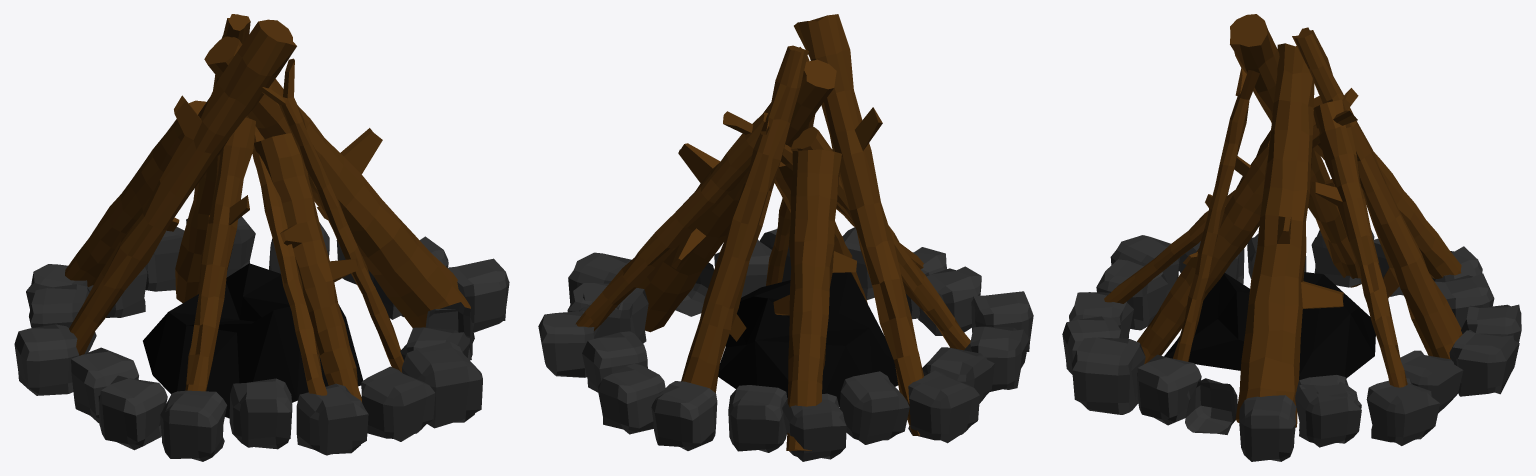
Rendered from campfire.glb.
3 renders of one model, left to right at view 1: azimuth 30°, elevation 25°; view 2: azimuth 150°, elevation 25°; view 3: azimuth 270°, elevation 25°, orthographic. The views are drawn at different scales.
Visible parts, largest first — view 1: FirePit_0; view 2: FirePit_0; view 3: FirePit_0.
Boxes of the visible parts, box(x1,y1,x2,y2) form: FirePit_0: box(14, 14, 509, 461); FirePit_0: box(538, 14, 1033, 461); FirePit_0: box(1062, 14, 1521, 461).
Bounding box in the file's own units: 0.9757 × 0.7778 × 0.9243.
1 material, 1 textured.
